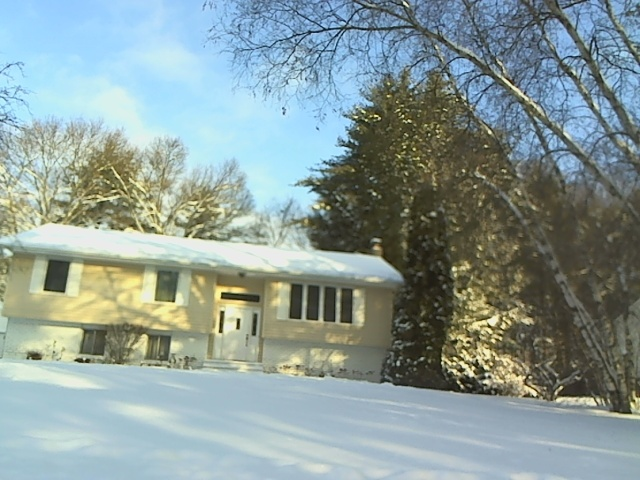Unploughed: (206, 289, 270, 440)
